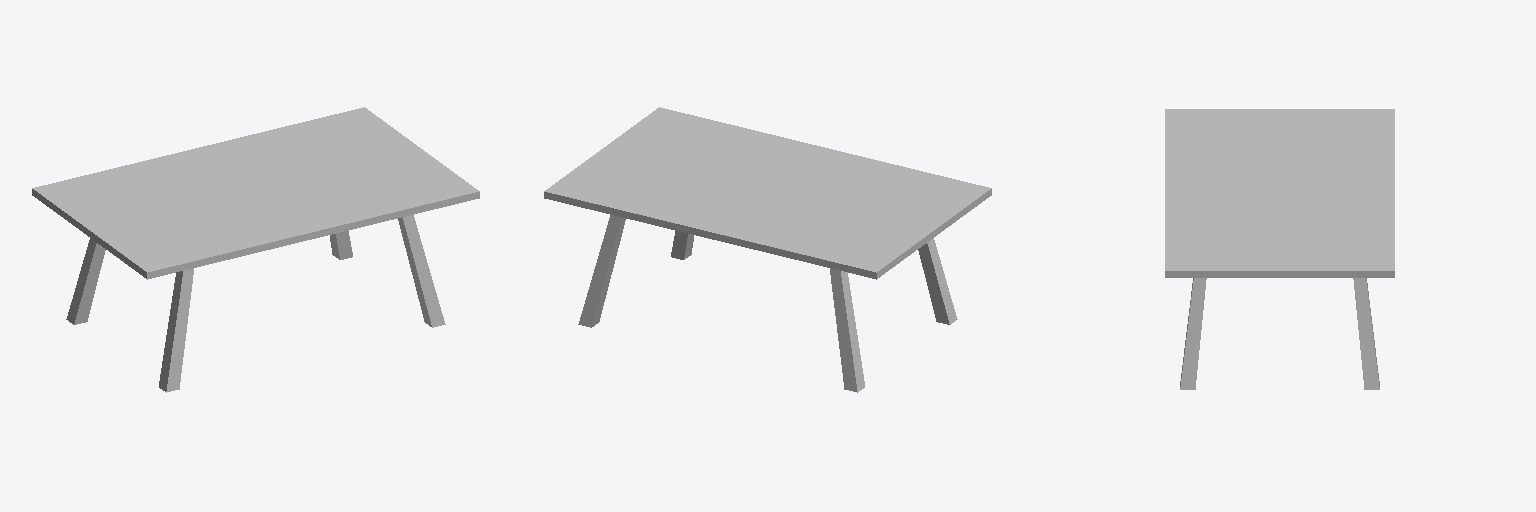
Rendered from living_room_table.obj.
The picture shows the model from 3 angles: view 1: azimuth 30°, elevation 25°; view 2: azimuth 150°, elevation 25°; view 3: azimuth 270°, elevation 25°; orthographic projection.
Parts seen in each view (by area): view 1: Table; view 2: Table; view 3: Table.
Part boxes in pixels (bbox=[...]): Table: bbox=[32, 107, 479, 392]; Table: bbox=[544, 107, 991, 392]; Table: bbox=[1165, 109, 1394, 389].
Bounding box in the file's own units: 5 × 1.9 × 3.